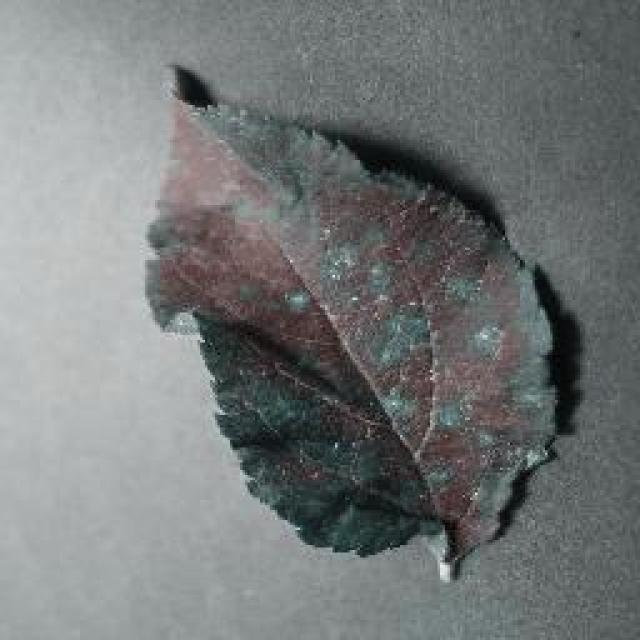apple scab disease: (140, 60, 565, 582)
